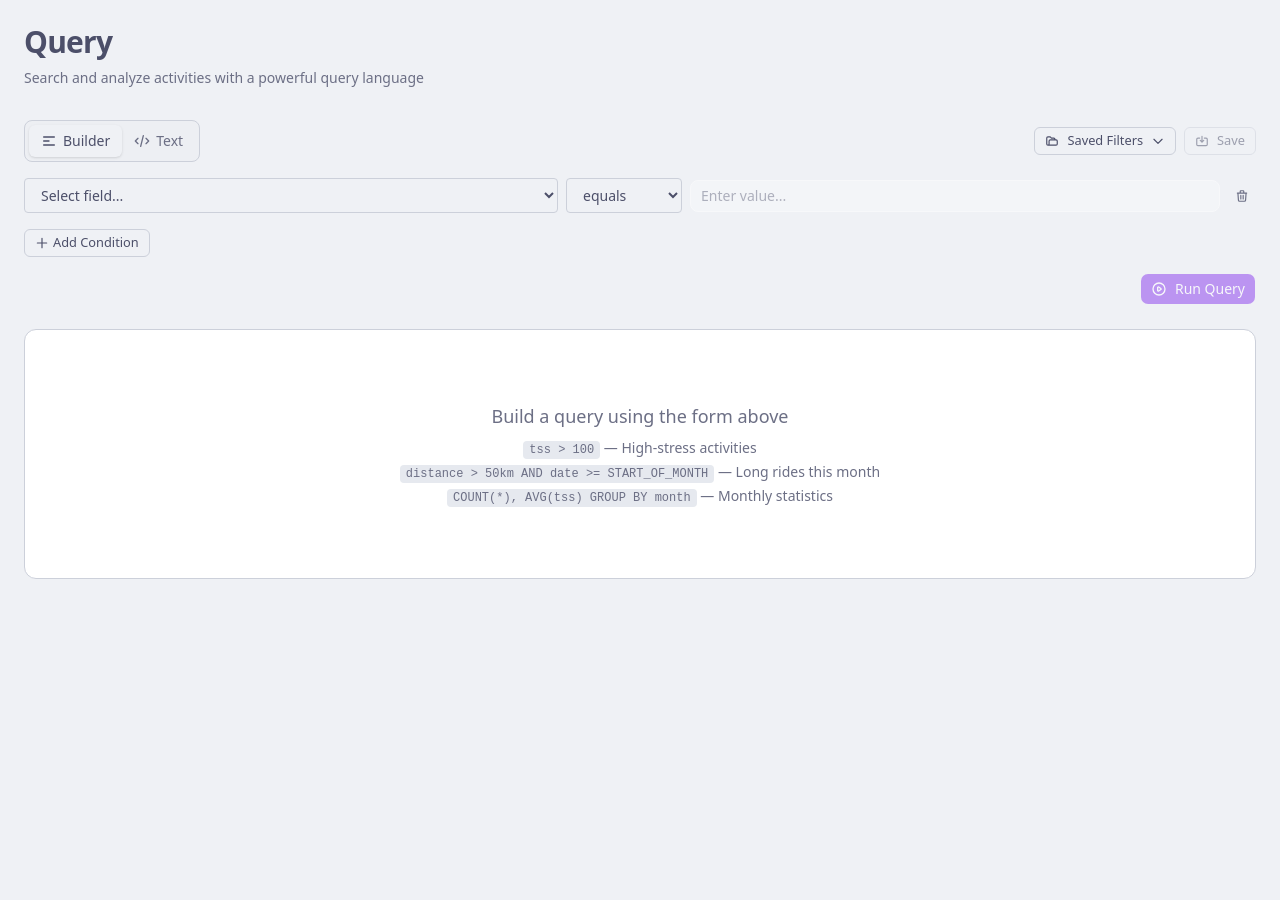
it: QueryPage › list results › displays list results with activity count
Click the button "Text" at (159, 141), box [122,125,195,157]
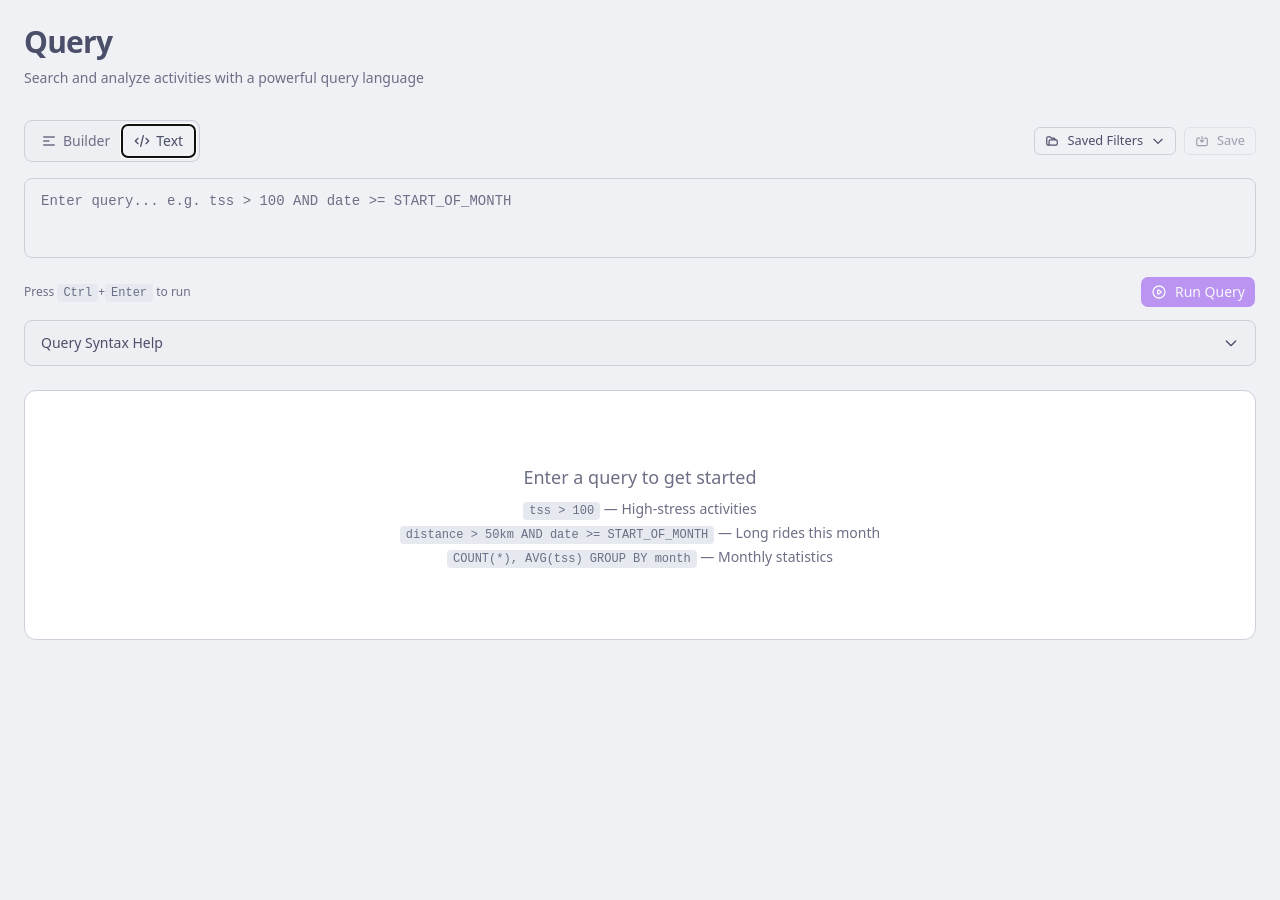
Type "tss > 50" into the text box with placeholder "Enter query... e.g. tss > 100 AND date >= START_OF_MONTH" at (640, 218), box [24,178,1256,258]
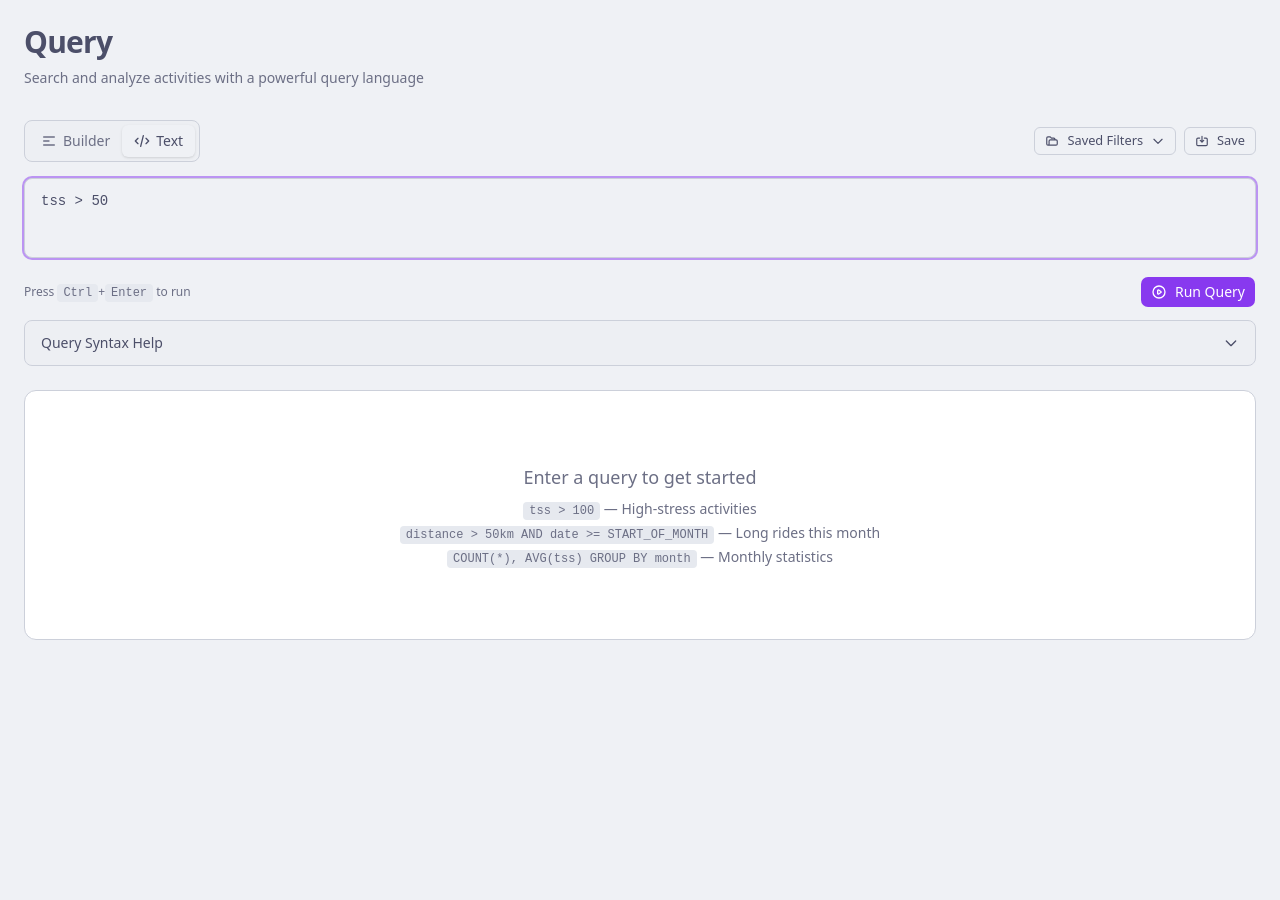
Click the button "Run Query" at (1198, 292), box [1140,276,1256,308]
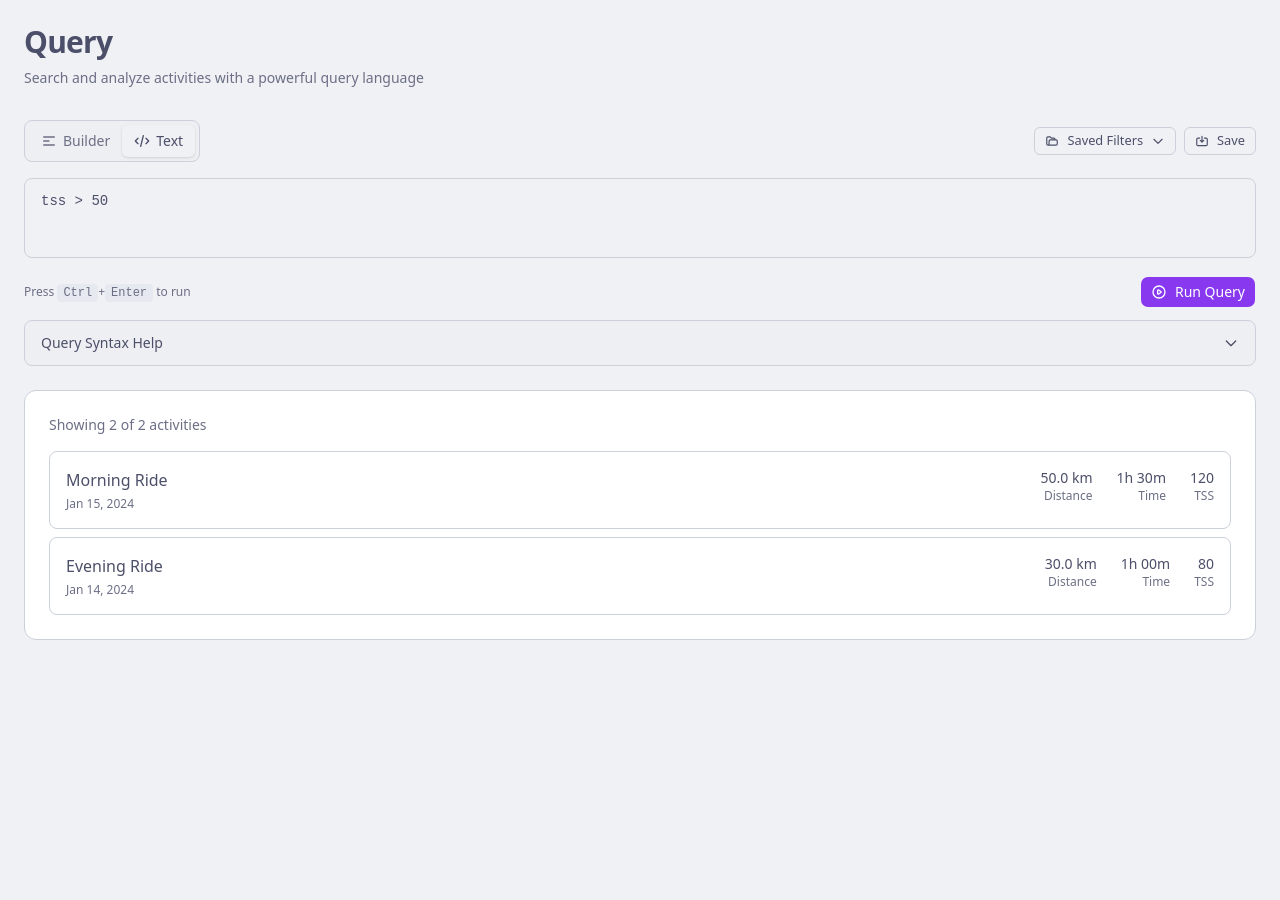
Now the text "Showing 2 of 2 activities" is shown, box [49,415,206,434]
Now the heading "Morning Ride" is shown, box [66,469,168,491]
Now the heading "Evening Ride" is shown, box [66,555,163,577]
